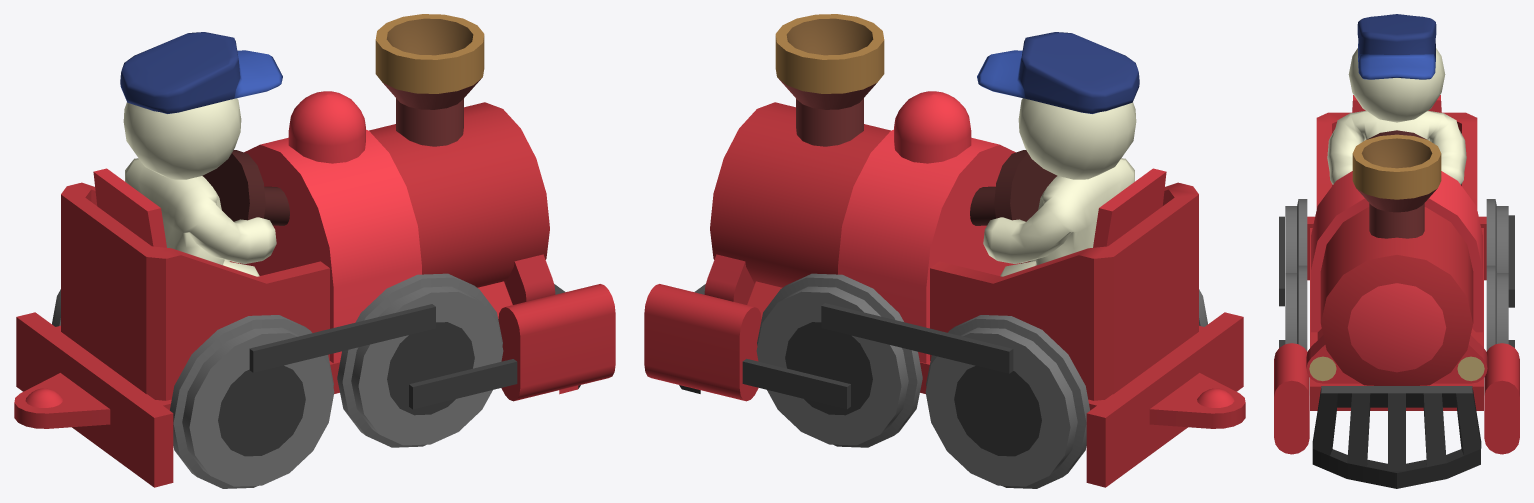
The model's file is LocomotiveV4 (1) (2).fbx.
3 renders of one model, left to right at view 1: azimuth 30°, elevation 25°; view 2: azimuth 150°, elevation 25°; view 3: azimuth 270°, elevation 25°, orthographic. The views are drawn at different scales.
Visible parts, largest first — view 1: Train_B_Color.001, Charcter5.001, Coupling_rod_1.001, Coupling_rod_2.001; view 2: Train_B_Color.001, Charcter5.001, Coupling_rod_3.001, Coupling_rod_4.001; view 3: Train_B_Color.001, Charcter5.001, Coupling_rod_3.001, Coupling_rod_1.001.
Part boxes in pixels (left/top/right/bottom): Train_B_Color.001: left=14, top=14, right=615, bottom=488; Charcter5.001: left=120, top=32, right=282, bottom=276; Coupling_rod_1.001: left=249, top=304, right=435, bottom=372; Coupling_rod_2.001: left=409, top=359, right=517, bottom=409; Train_B_Color.001: left=644, top=14, right=1245, bottom=488; Charcter5.001: left=977, top=32, right=1139, bottom=276; Coupling_rod_3.001: left=821, top=303, right=1013, bottom=373; Coupling_rod_4.001: left=742, top=358, right=850, bottom=409; Train_B_Color.001: left=1274, top=95, right=1519, bottom=488; Charcter5.001: left=1327, top=14, right=1466, bottom=184; Coupling_rod_3.001: left=1508, top=215, right=1514, bottom=307; Coupling_rod_1.001: left=1279, top=216, right=1284, bottom=306.
Bounding box in the file's own units: 330 × 219 × 152.
